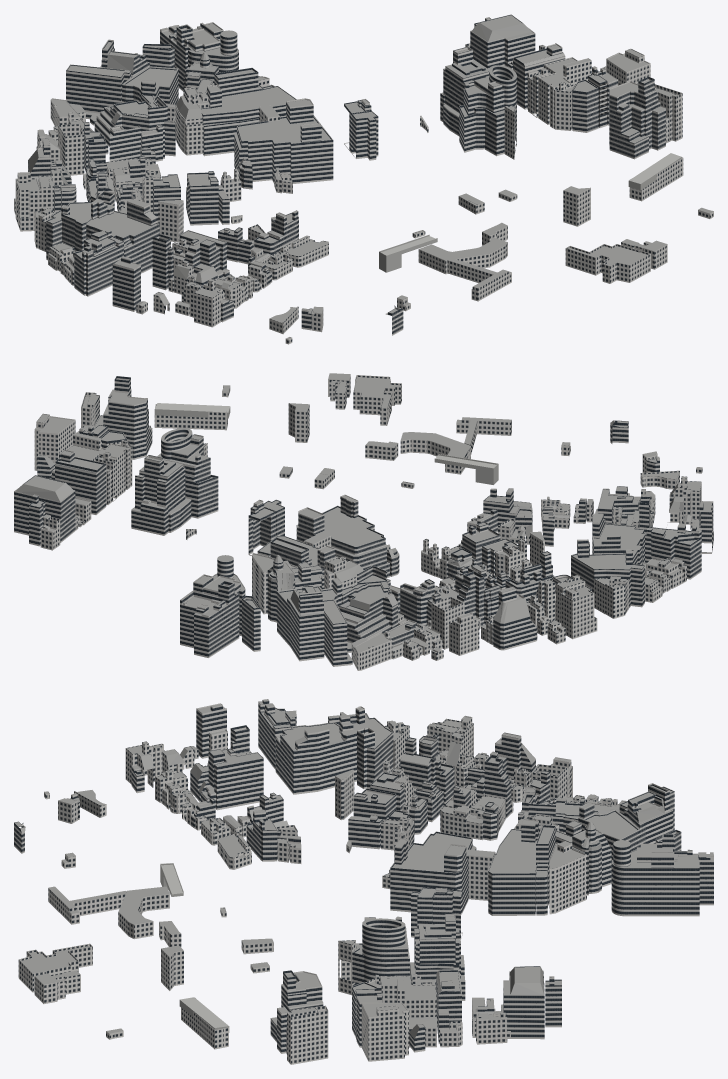
Rendered from context_core.glb.
3 views of the same model, one above another, from view 1: azimuth 30°, elevation 25°; view 2: azimuth 150°, elevation 25°; view 3: azimuth 270°, elevation 25° (orthographic). The views are drawn at different scales.
Visible parts, largest first — view 1: core__ctx_wall_ribbon_a, core__ctx_roof, core__ctx_wall_ribbon_b, core__ctx_wall_punched_a, core__ctx_wall_punched_b, core__ctx_structure; view 2: core__ctx_wall_ribbon_a, core__ctx_roof, core__ctx_wall_punched_a, core__ctx_wall_ribbon_b, core__ctx_wall_punched_b, core__ctx_structure; view 3: core__ctx_wall_ribbon_a, core__ctx_roof, core__ctx_wall_punched_a, core__ctx_wall_ribbon_b, core__ctx_wall_punched_b, core__ctx_structure.
Boxes of the visible parts, x1,y1,x2,y2 form: core__ctx_wall_ribbon_a: (28, 15, 607, 280); core__ctx_roof: (14, 14, 713, 339); core__ctx_wall_ribbon_b: (50, 39, 665, 335); core__ctx_wall_punched_a: (14, 43, 713, 334); core__ctx_wall_punched_b: (34, 49, 667, 344); core__ctx_structure: (259, 105, 681, 272); core__ctx_wall_ribbon_a: (14, 425, 645, 666); core__ctx_roof: (14, 373, 713, 660); core__ctx_wall_punched_a: (40, 385, 701, 670); core__ctx_wall_ribbon_b: (37, 376, 713, 661); core__ctx_wall_punched_b: (34, 375, 713, 660); core__ctx_structure: (154, 403, 498, 546); core__ctx_wall_ribbon_a: (201, 706, 713, 1043); core__ctx_roof: (14, 699, 713, 1039); core__ctx_wall_punched_a: (74, 716, 625, 1064); core__ctx_wall_ribbon_b: (14, 700, 681, 1053); core__ctx_wall_punched_b: (18, 723, 598, 1061); core__ctx_structure: (160, 852, 495, 1032).
Size of the model in its own units: 508 by 59.32 by 471.
Materials: 6 (4 with a texture image).
